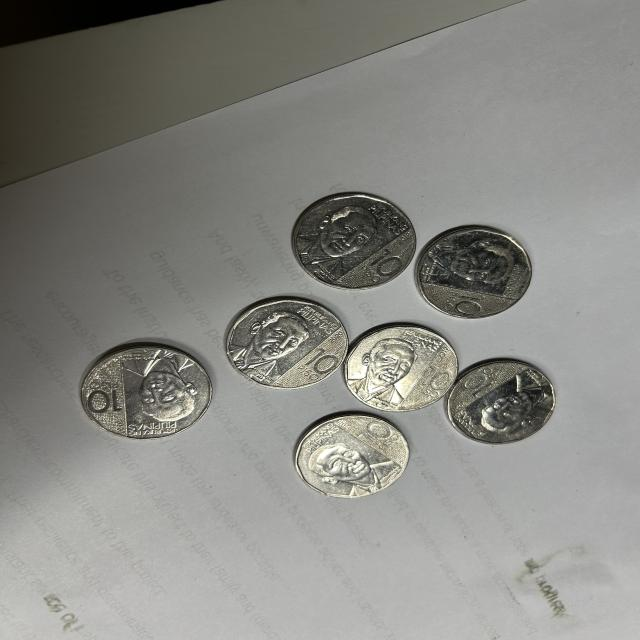10_New_Front: (351, 420, 407, 461), (83, 369, 124, 416), (362, 246, 407, 286), (442, 288, 494, 321), (418, 354, 450, 404), (454, 364, 504, 396), (293, 341, 335, 375)
